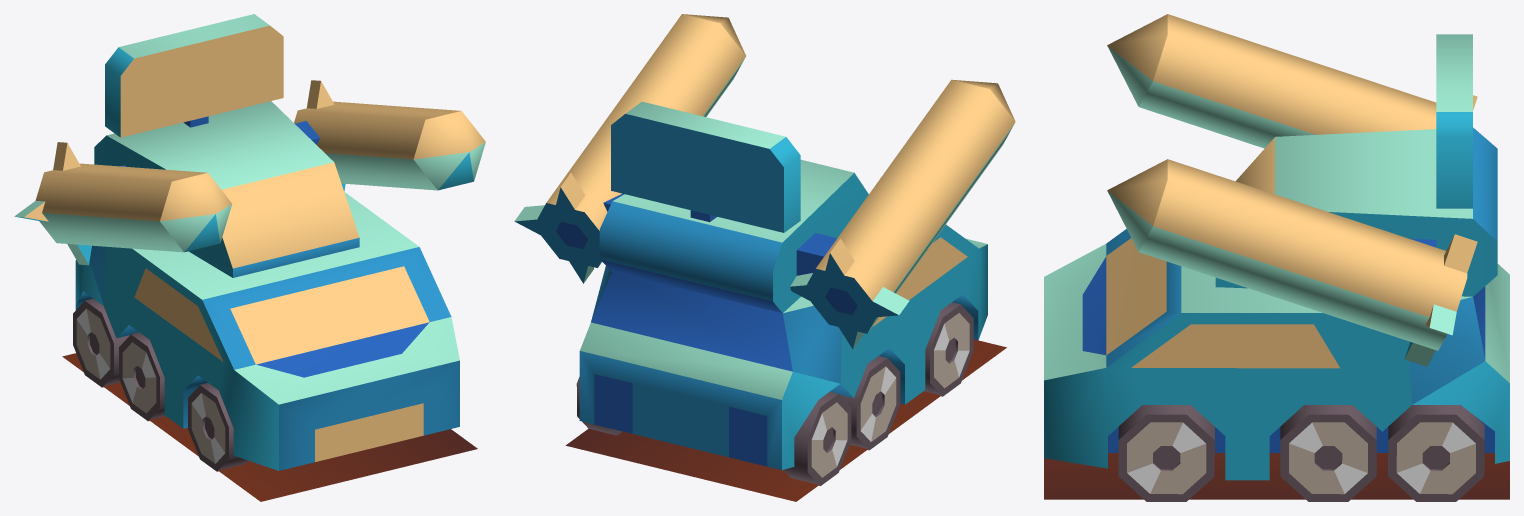
The model's file is MissileMesh.AzureAsteroid.glb.
The picture shows the model from 3 angles, left to right: view 1: azimuth 30°, elevation 25°; view 2: azimuth 150°, elevation 25°; view 3: azimuth 270°, elevation 25°; orthographic projection. The views are drawn at different scales.
Parts seen in each view (by area): view 1: MissileMesh.AzureAsteroid; view 2: MissileMesh.AzureAsteroid; view 3: MissileMesh.AzureAsteroid.
Part boxes in pixels (left/top/right/bottom): MissileMesh.AzureAsteroid: left=14, top=14, right=485, bottom=501; MissileMesh.AzureAsteroid: left=514, top=14, right=1015, bottom=501; MissileMesh.AzureAsteroid: left=1044, top=14, right=1509, bottom=501.
Bounding box in the file's own units: 2 × 1.65 × 1.9.
1 material, 1 textured.
